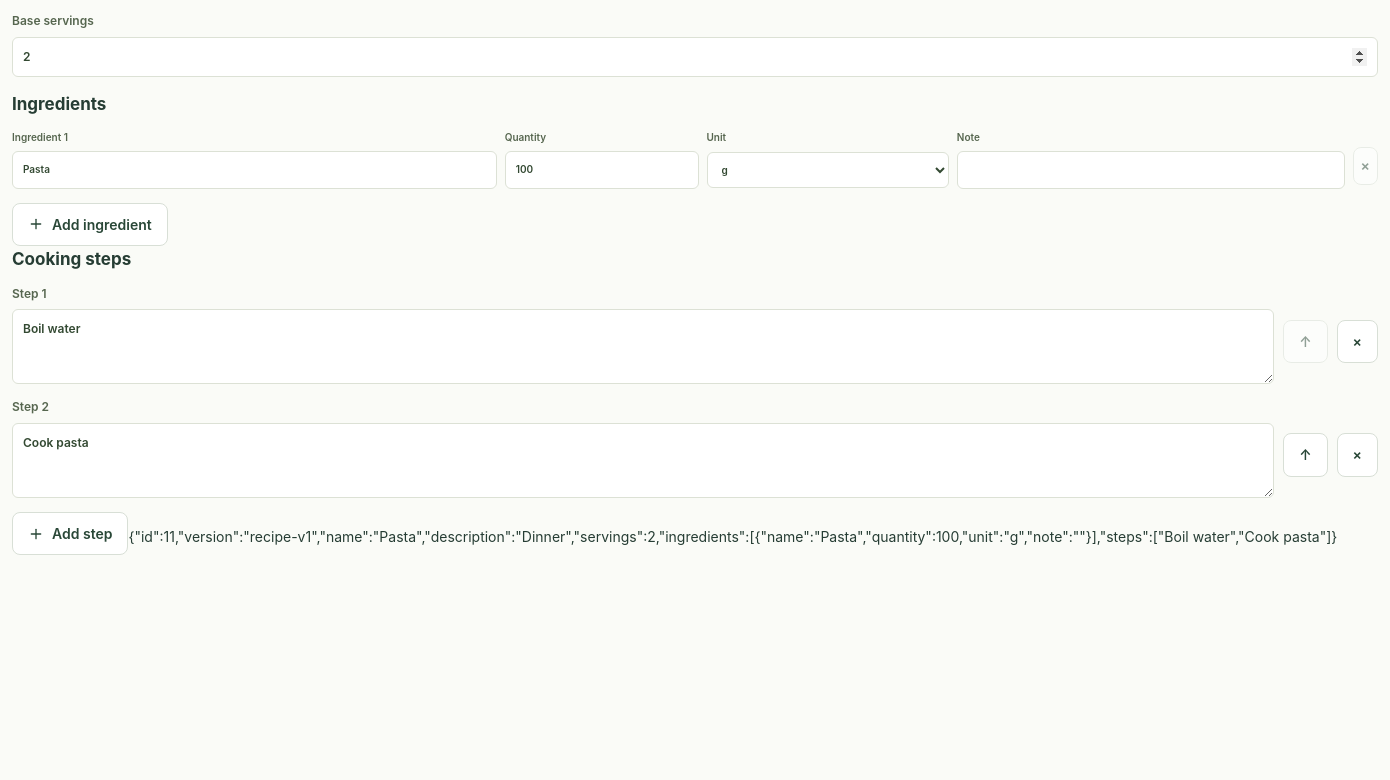
Test: recipe and meal field behavior › keeps one ingredient, supports additions and removals, and stores blank quantity as null
Expected: the button named "Remove ingredient 1" is disabled, [1353,147,1378,185]
Step 1. Select "unspecified" in the dropdown labelled "Unit" → (828, 170), box [706,152,949,188]
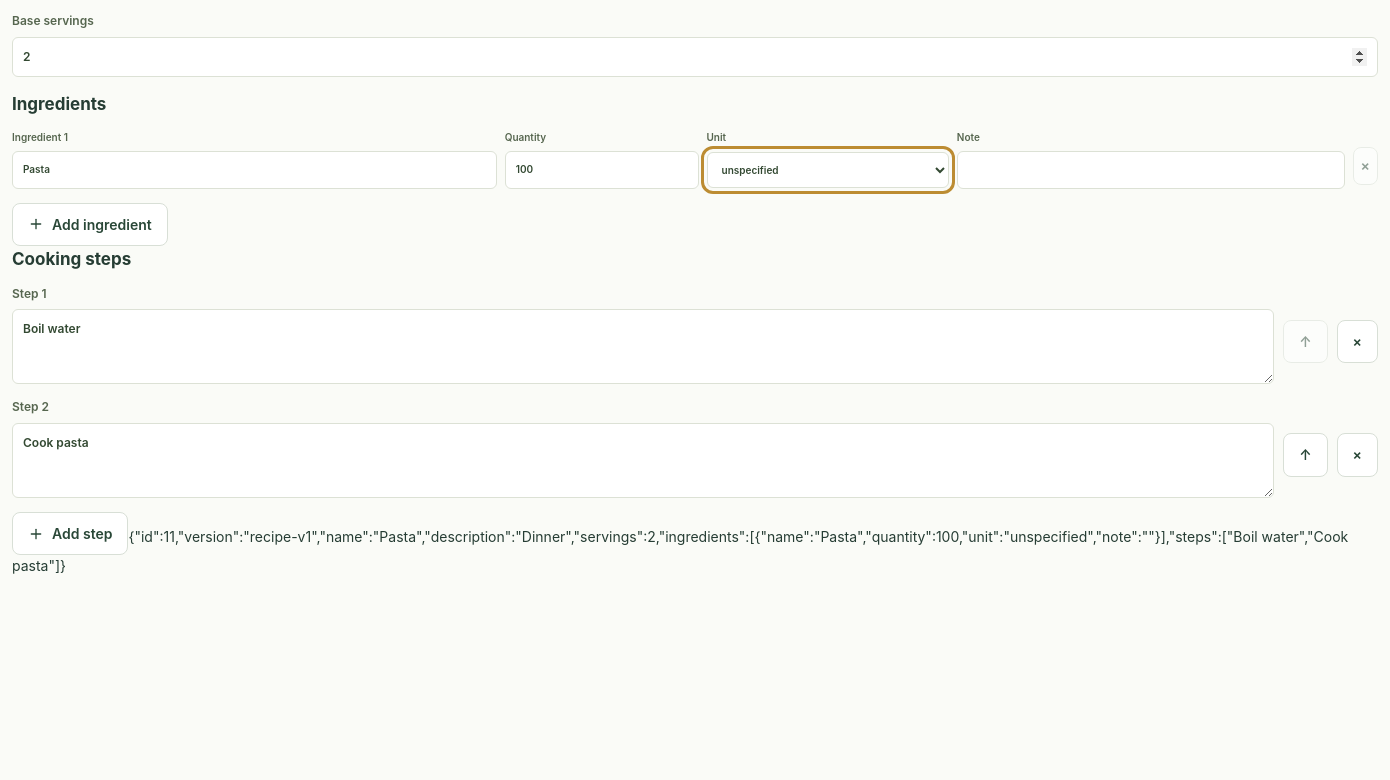
Step 2. Clear the number field labelled "Quantity" → (602, 170), box [505,151,699,188]
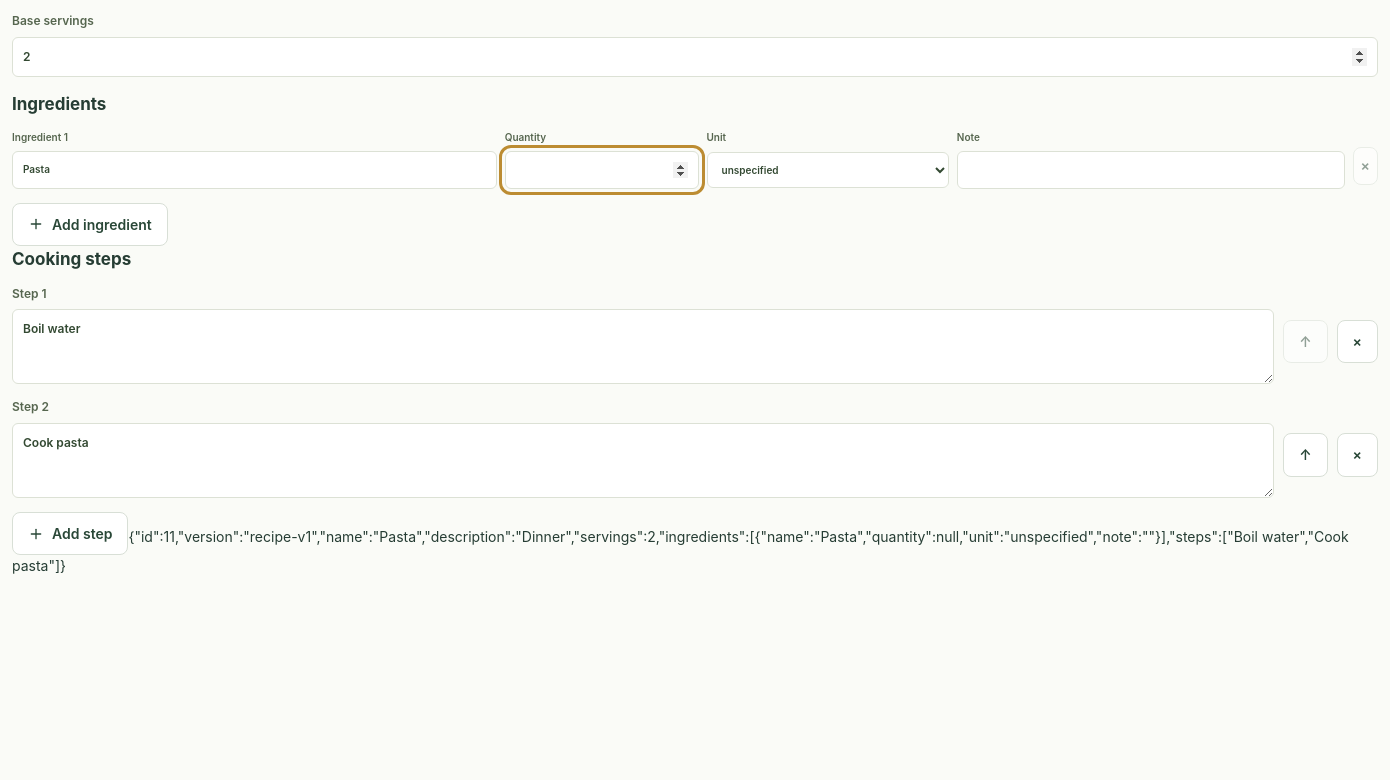
Now the text with test id "value" shows "\"quantity\":null", box [12,528,1349,574]
Step 3. Click the button "Add ingredient" → click(90, 224), box [12,202,168,246]
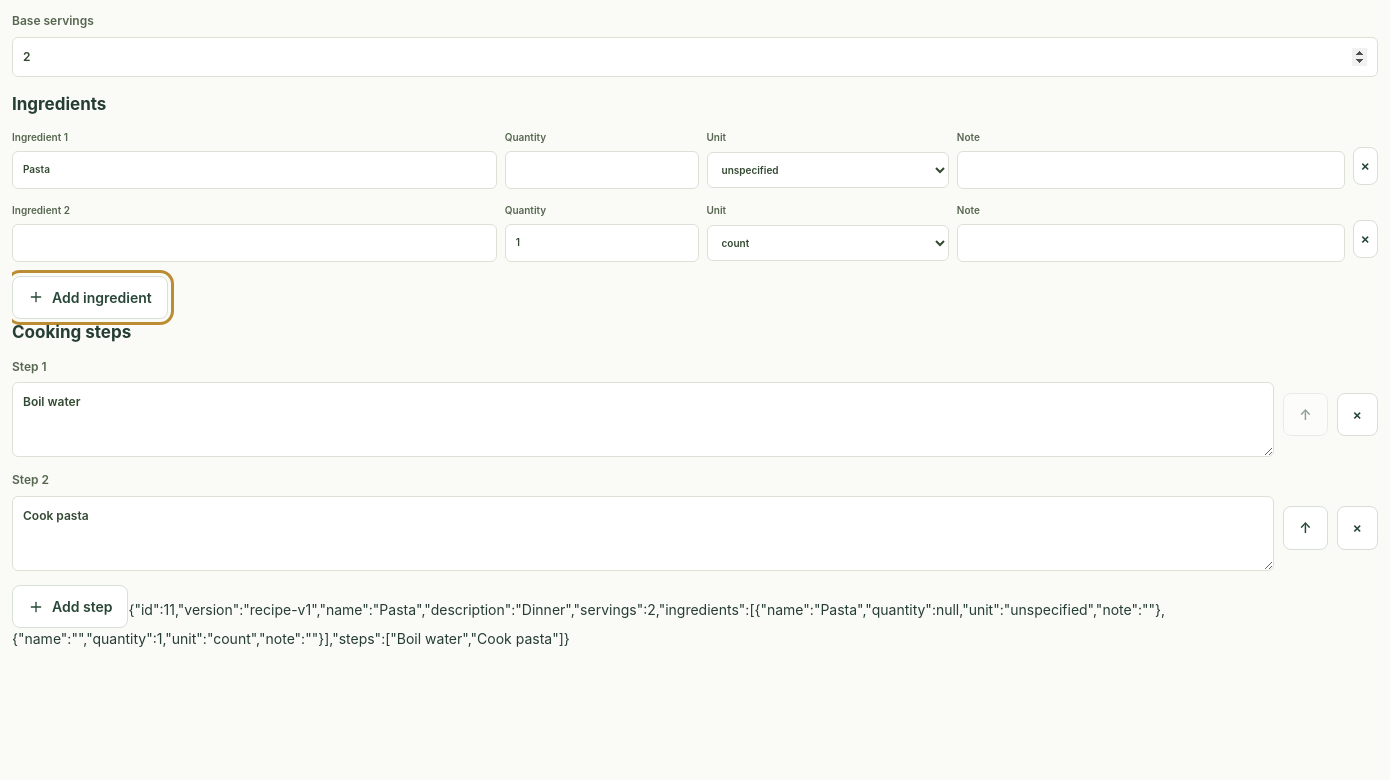
Step 4. Type "Salt" into the field labelled "Ingredient 2" → (254, 243), box [12,224,497,262]
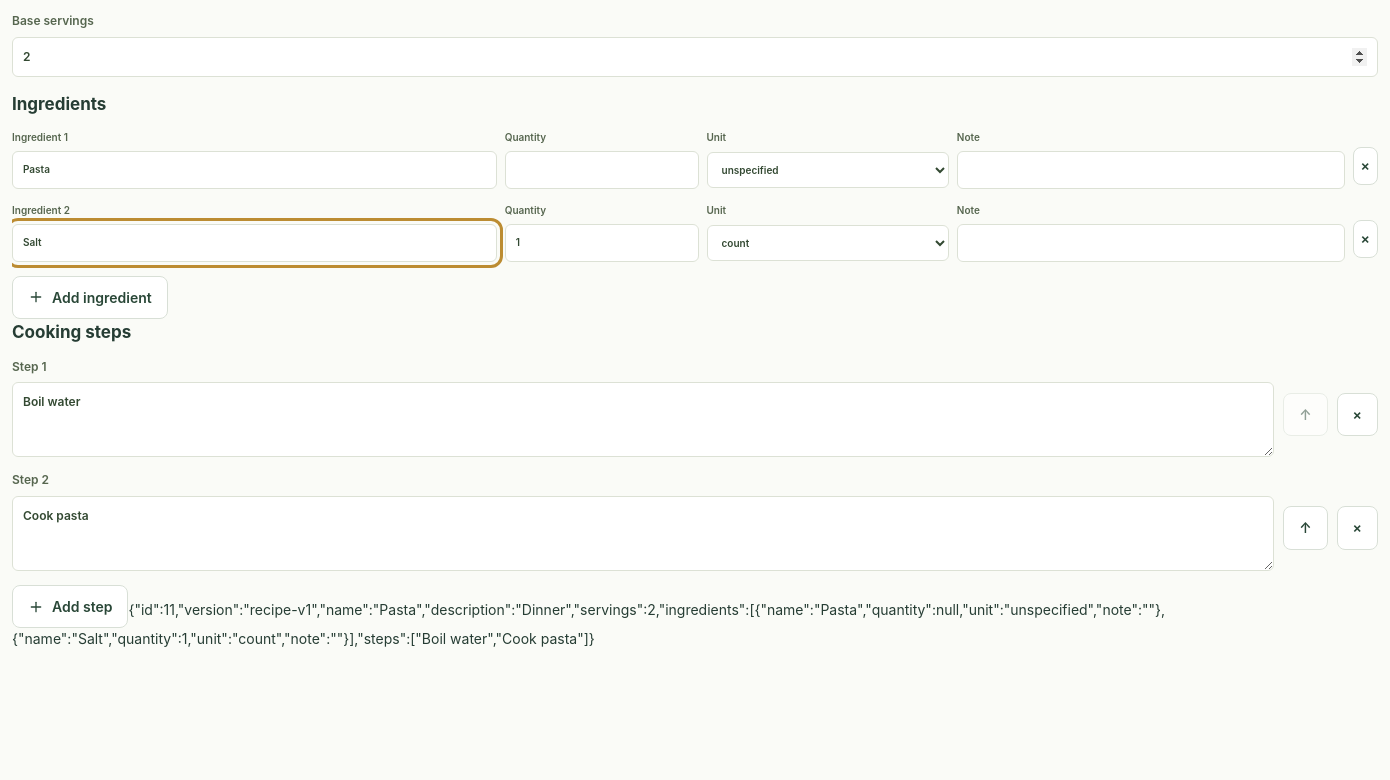
Now the text with test id "value" shows "Salt", box [12,601,1165,647]
Step 5. Click the button named "Remove ingredient 1" → click(1365, 166), box [1353,147,1378,185]
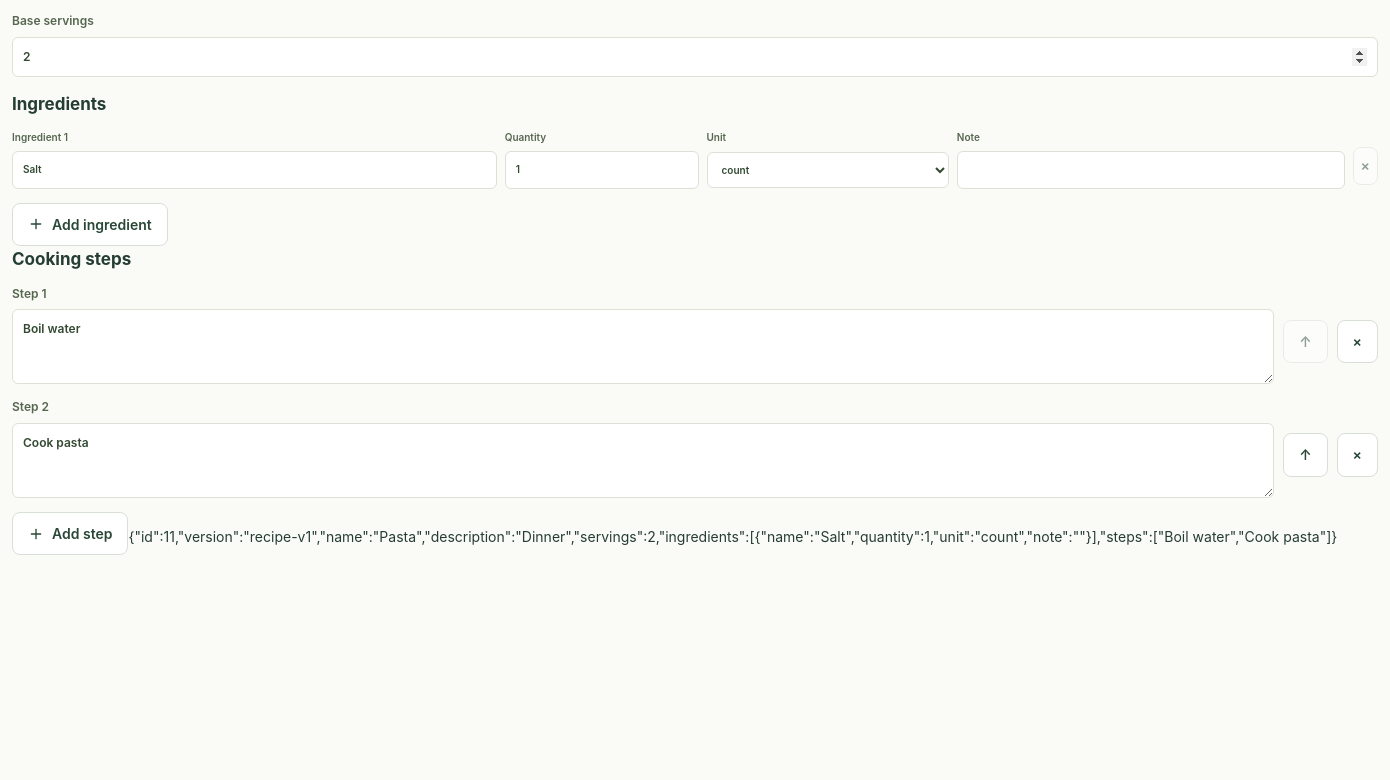
Now the field labelled "Ingredient 1" holds "Salt", box [12,151,497,188]
